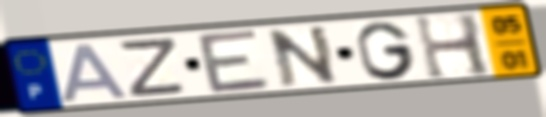A: (60, 41, 134, 104)
E: (193, 27, 275, 96)
G: (353, 19, 419, 82)
H: (411, 11, 496, 82)
N: (263, 23, 342, 90)
Z: (118, 35, 189, 100)
